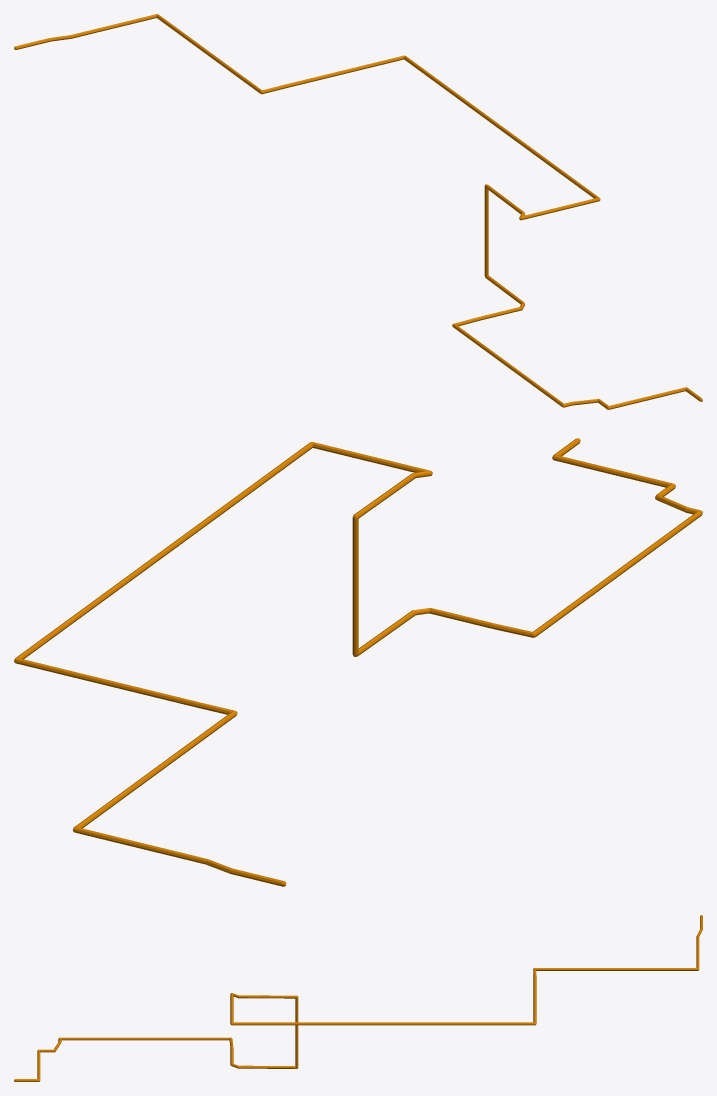
3 renders of one model, top to bottom at view 1: azimuth 30°, elevation 25°; view 2: azimuth 150°, elevation 25°; view 3: azimuth 270°, elevation 25°, orthographic. The views are drawn at different scales.
Bounding box in the file's own units: 1656 × 520 × 4433.
